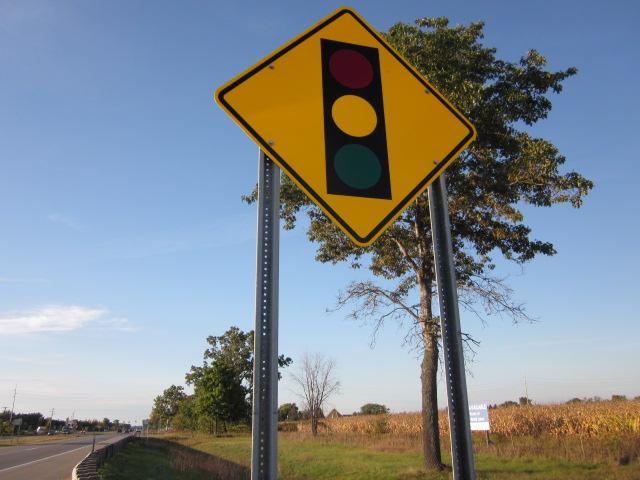warning: (215, 8, 476, 247)
